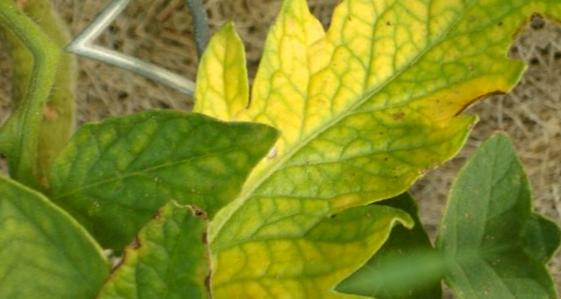Tomato mold leaf: (132, 0, 561, 299), (14, 72, 294, 265), (22, 185, 240, 299)
